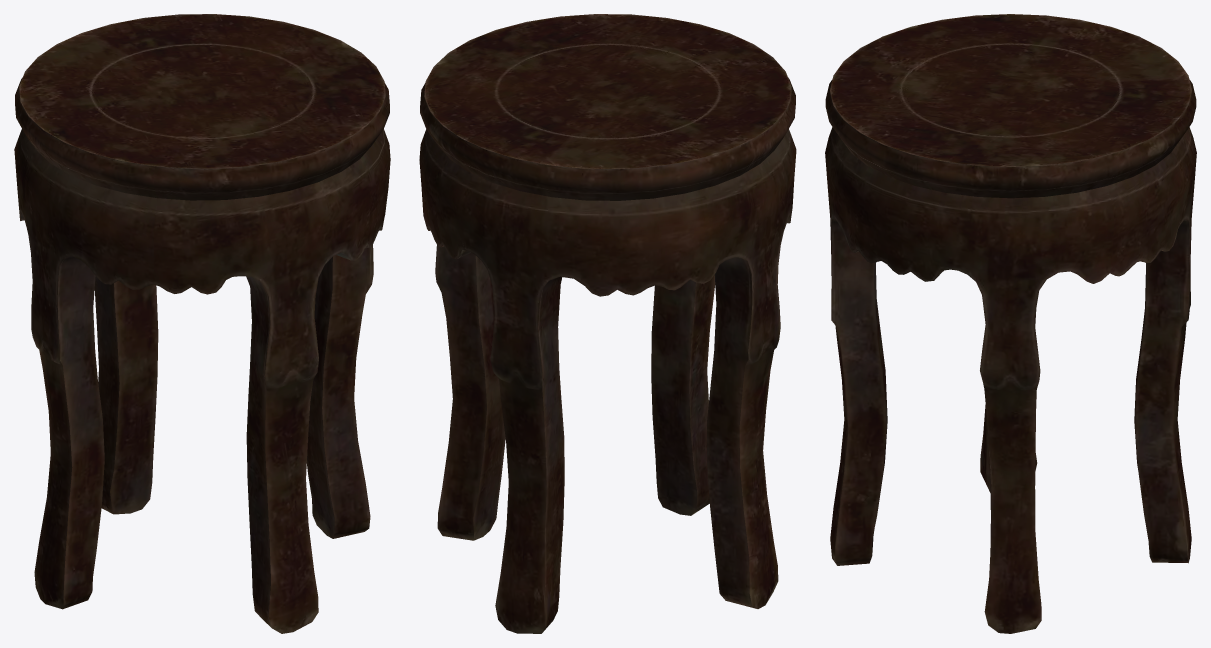
Rendered from woodentable_02.glb.
3 renders of one model, left to right at view 1: azimuth 30°, elevation 25°; view 2: azimuth 150°, elevation 25°; view 3: azimuth 270°, elevation 25°, orthographic.
Visible parts, largest first — view 1: WoodenTable_02; view 2: WoodenTable_02; view 3: WoodenTable_02.
Boxes of the visible parts, x1,y1,x2,y2 form: WoodenTable_02: (14, 14, 390, 633); WoodenTable_02: (419, 14, 796, 633); WoodenTable_02: (825, 14, 1196, 633).
Bounding box in the file's own units: 0.3007 × 0.4177 × 0.3007.
1 material, 1 textured.
